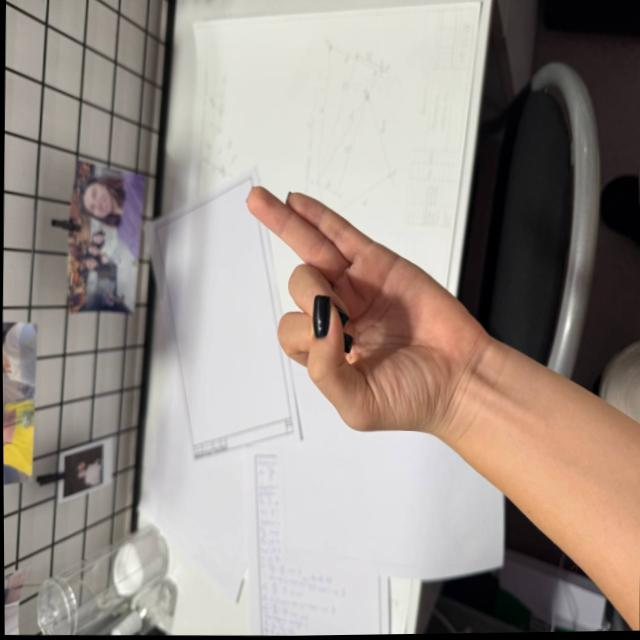i: (252, 160, 484, 449)
